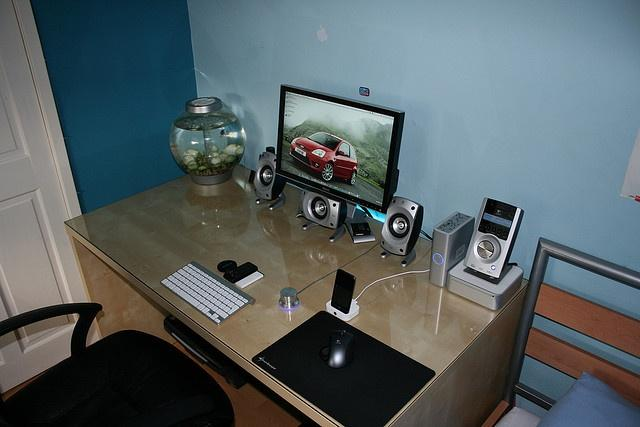AIO PC-Monitor-TV: (274, 83, 404, 215)
Kursi: (0, 299, 236, 426)
Meja: (63, 159, 528, 426)
